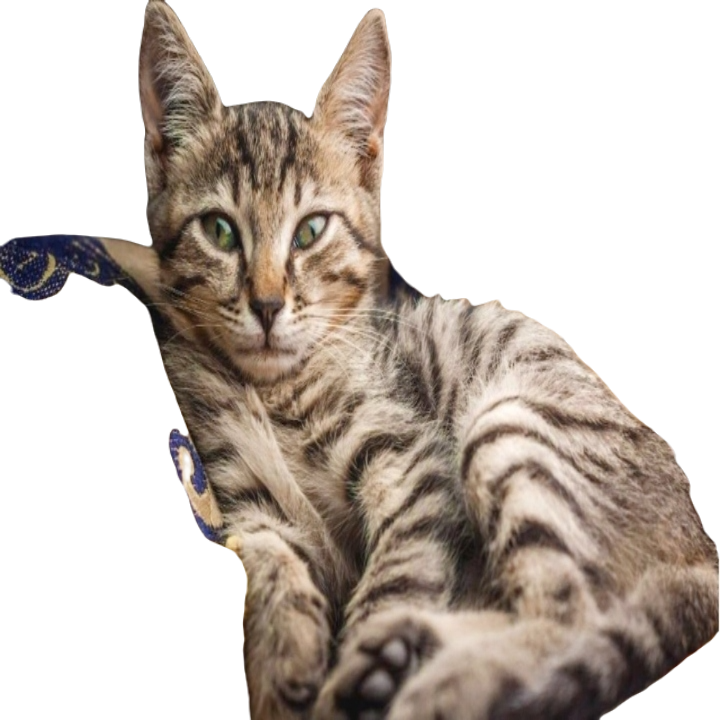Cat: (0, 1, 719, 719)
